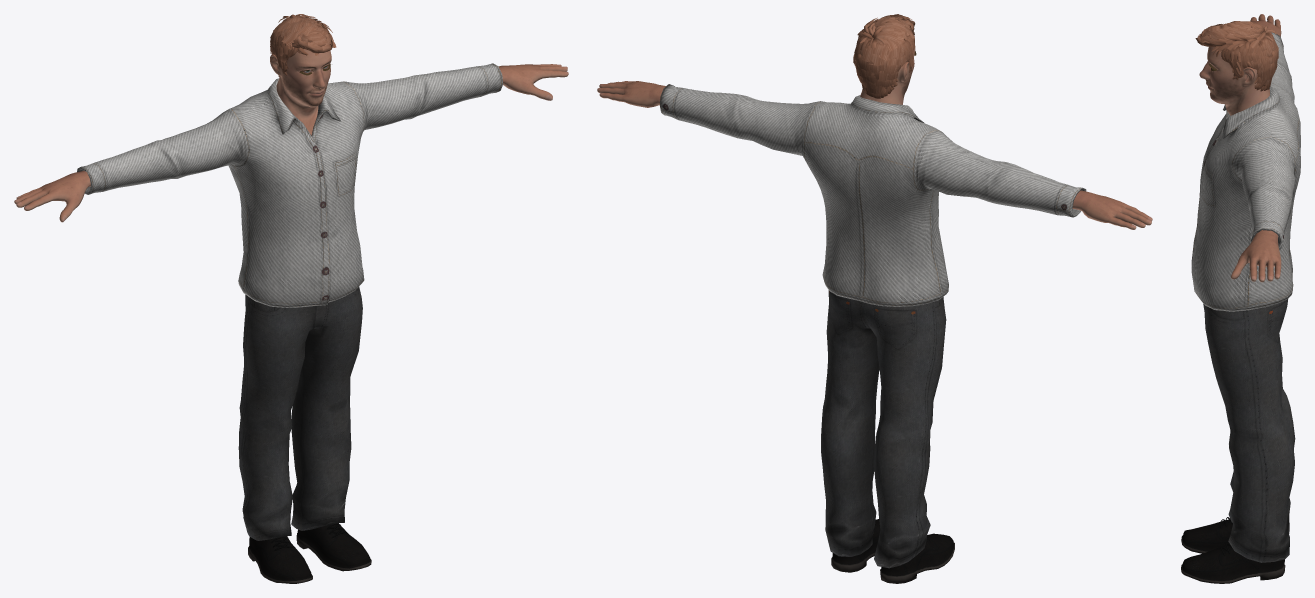
File: Charakterd.obj
3 views of the same model, side by side, from view 1: azimuth 30°, elevation 25°; view 2: azimuth 150°, elevation 25°; view 3: azimuth 270°, elevation 25° (orthographic).
Parts seen in each view (by area): view 1: Tops, Bottoms, Body, Shoes, Hair; view 2: Tops, Bottoms, Body, Hair, Shoes; view 3: Tops, Bottoms, Body, Shoes, Hair.
Part boxes in pixels (box(x1,y1,x2,y2)): Tops: box(77, 63, 503, 307); Bottoms: box(238, 286, 362, 540); Body: box(14, 19, 568, 222); Shoes: box(248, 523, 371, 583); Hair: box(270, 14, 336, 76); Tops: box(660, 84, 1086, 306); Bottoms: box(821, 290, 946, 568); Body: box(597, 48, 1152, 229); Hair: box(853, 14, 915, 98); Shoes: box(831, 519, 954, 583); Tops: box(1191, 32, 1300, 311); Bottoms: box(1203, 298, 1295, 562); Body: box(1199, 14, 1281, 282); Shoes: box(1181, 517, 1285, 583); Hair: box(1195, 21, 1278, 91).
Bounding box in the file's own units: 194 × 182 × 36.7.
Materials: 5 (5 with a texture image).
